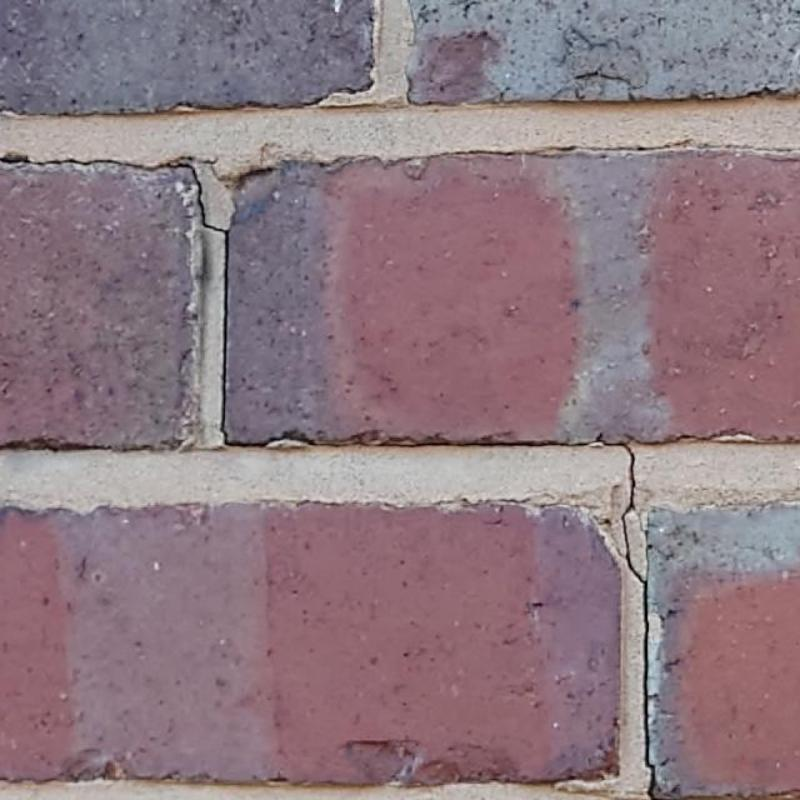pothole: (0, 151, 666, 799)
